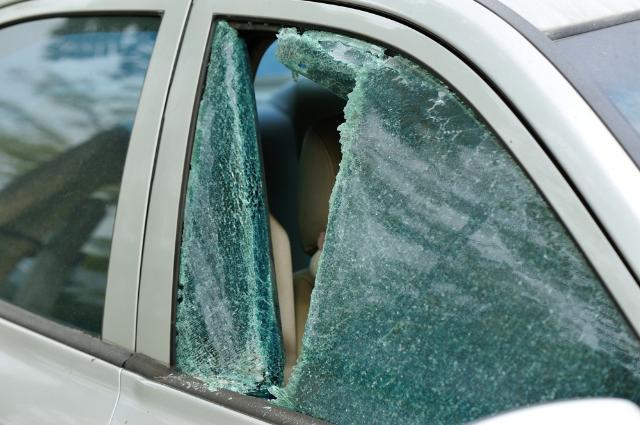glass shatter: (174, 17, 640, 425)
